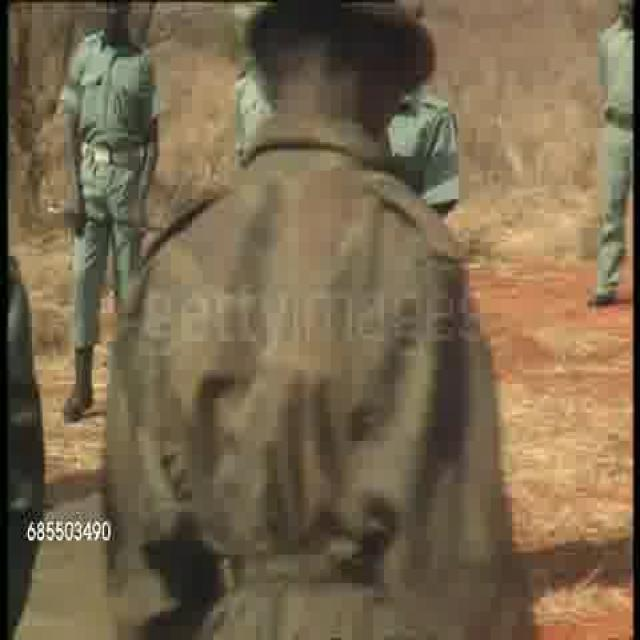poacher: (114, 1, 488, 618), (62, 6, 164, 430), (582, 2, 640, 320)
